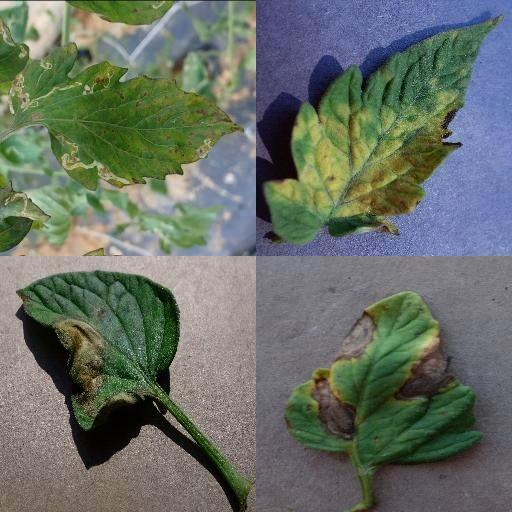Early Blight: (284, 288, 488, 468)
Late Blight: (17, 269, 179, 435)
Leaf Miner: (7, 42, 246, 192)
Leaf Mold: (265, 13, 502, 245)
